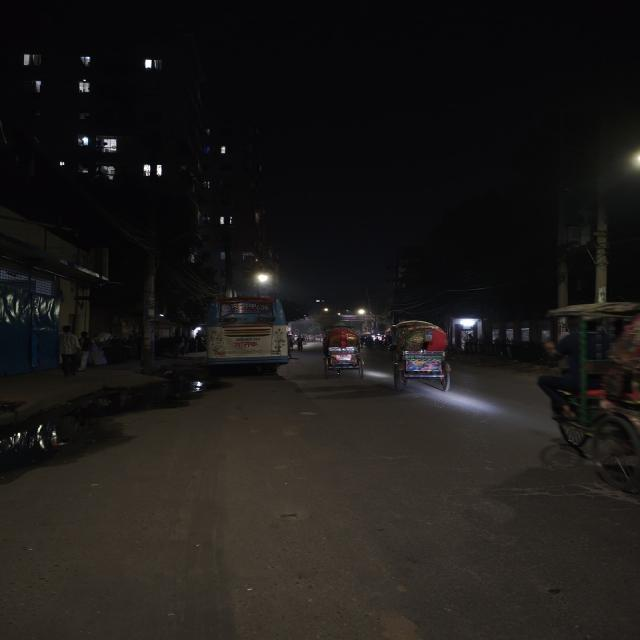bus: (197, 297, 297, 377)
pedestrian: (54, 323, 84, 377)
rickshaw: (523, 294, 640, 512), (382, 319, 464, 392), (318, 325, 370, 378)
